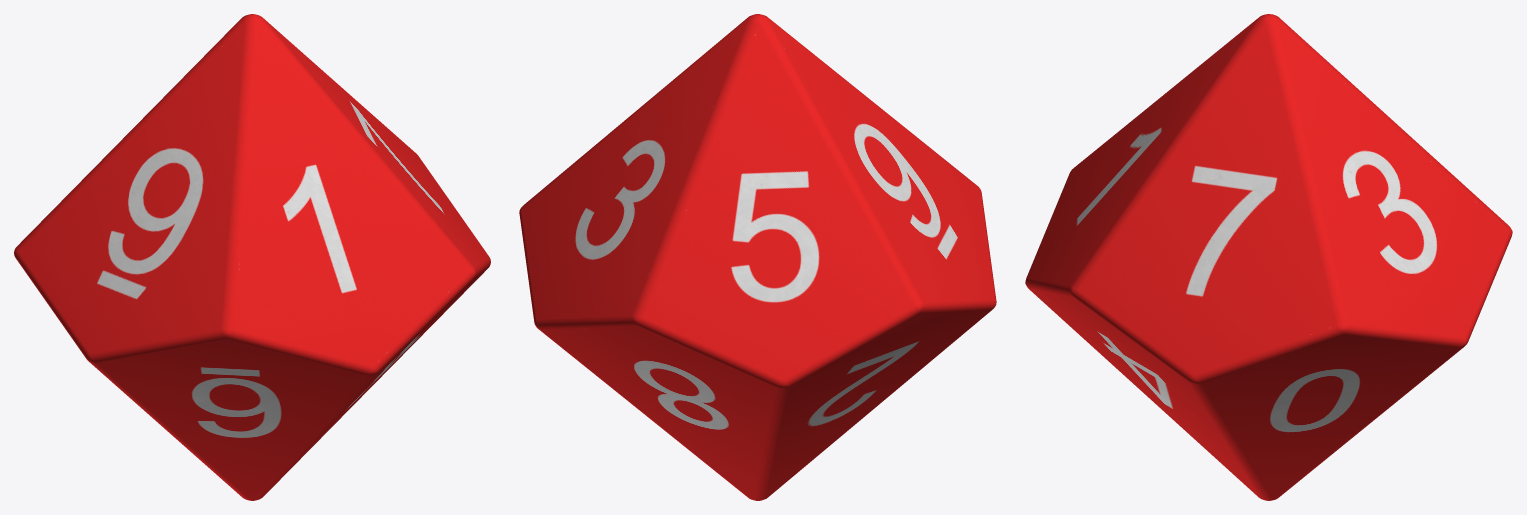
3 views of the same model, side by side, from view 1: azimuth 30°, elevation 25°; view 2: azimuth 150°, elevation 25°; view 3: azimuth 270°, elevation 25° (orthographic).
Parts seen in each view (by area): view 1: d10x_red_plastic; view 2: d10x_red_plastic; view 3: d10x_red_plastic.
Part boxes in pixels (x1=…): d10x_red_plastic: x1=14, y1=14, x2=490, y2=500; d10x_red_plastic: x1=519, y1=14, x2=996, y2=500; d10x_red_plastic: x1=1025, y1=14, x2=1512, y2=500.
Size of the model in its own units: 1.85 by 2.12 by 1.94.
1 material, 1 textured.
